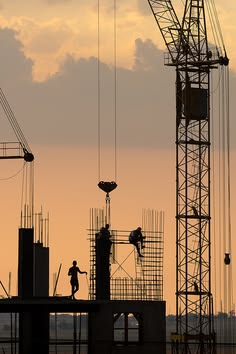person: (126, 217, 160, 262), (63, 254, 85, 302)
